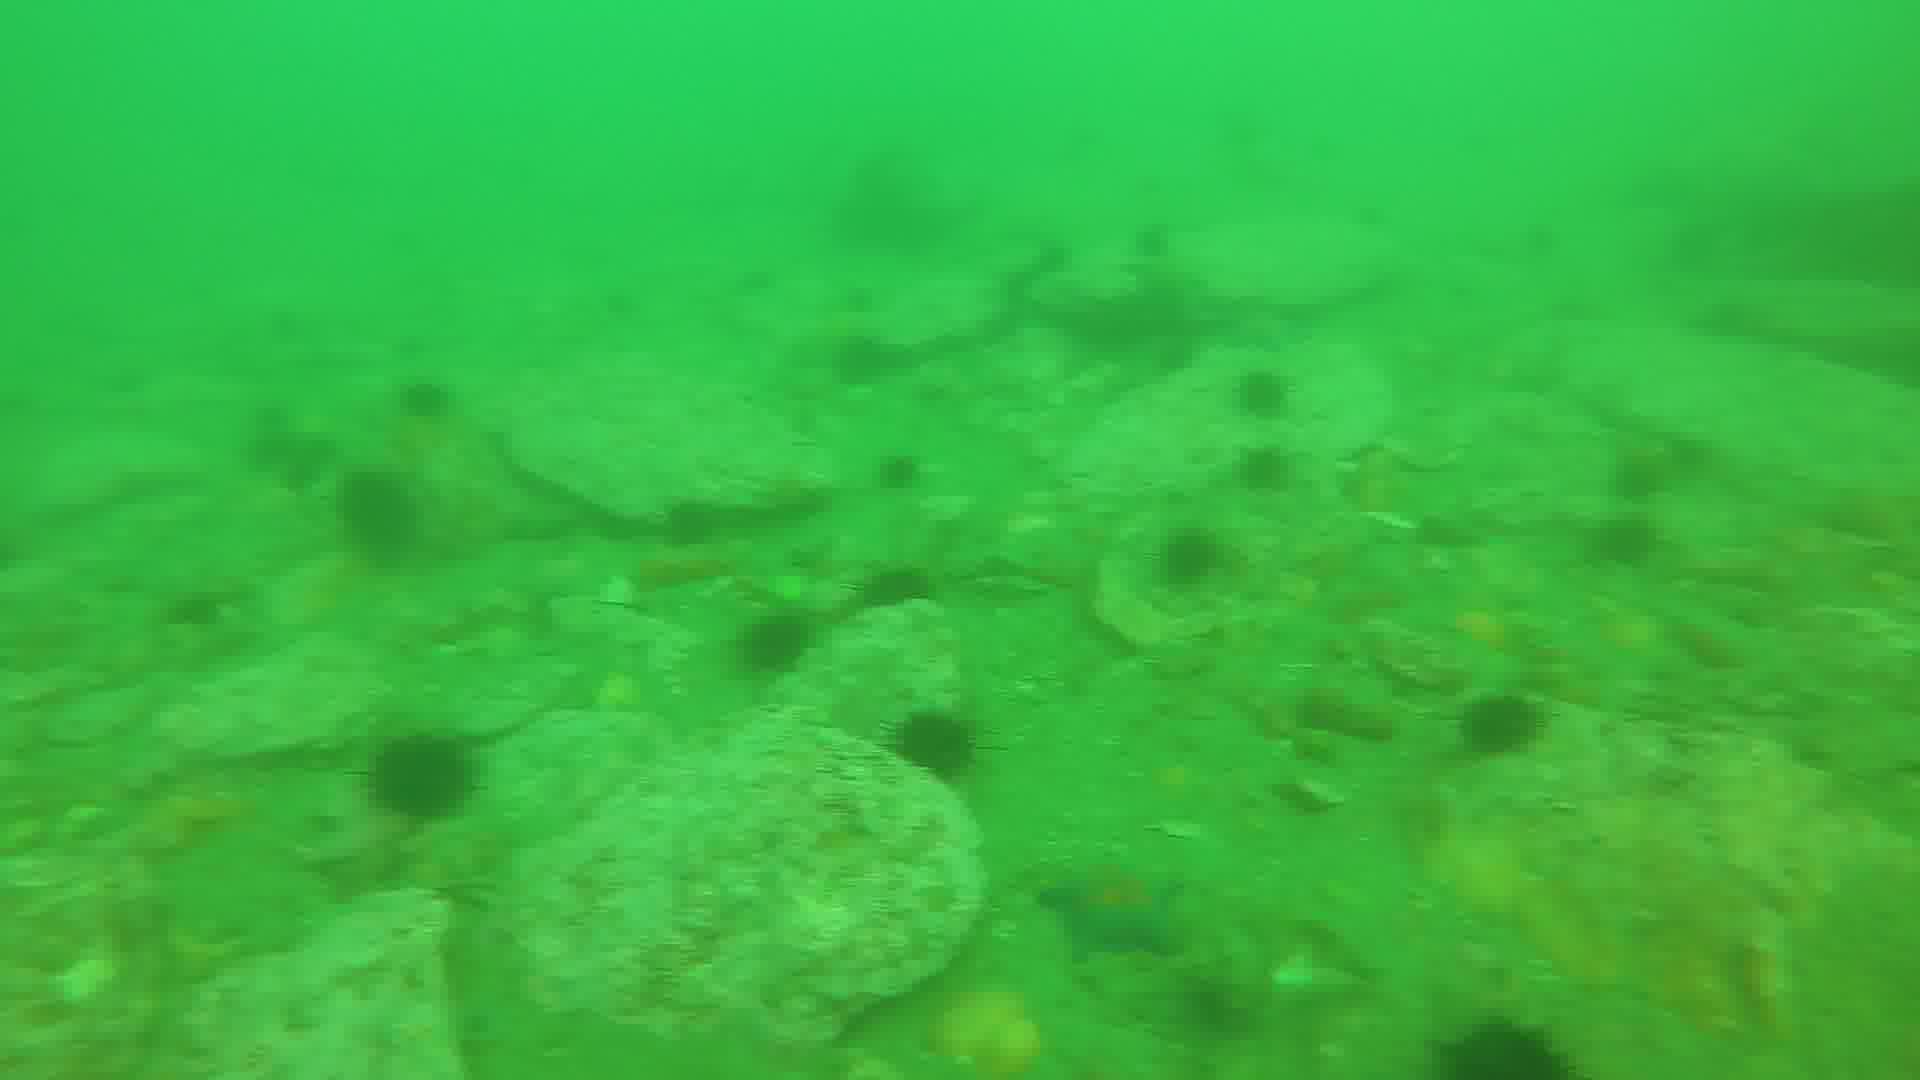echinus: (1433, 1017, 1585, 1080), (369, 738, 477, 823), (887, 709, 982, 793), (352, 462, 434, 556), (1455, 692, 1549, 757), (737, 612, 819, 679), (1158, 527, 1226, 596), (1596, 513, 1665, 574), (1246, 436, 1307, 504), (1622, 446, 1681, 508), (858, 563, 930, 615), (1244, 361, 1300, 425), (881, 451, 924, 492)
starfish: (1042, 852, 1185, 963)
